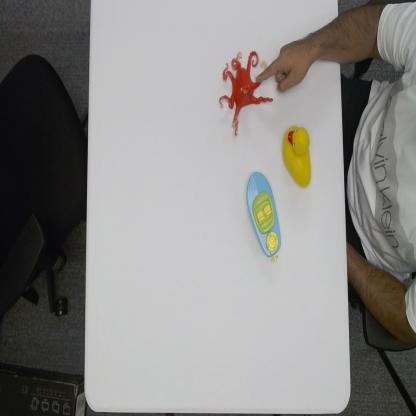Boat: (245, 169, 282, 264)
Duck: (281, 124, 312, 190)
Hand: (255, 37, 314, 94)
Octopus: (218, 49, 274, 139)
